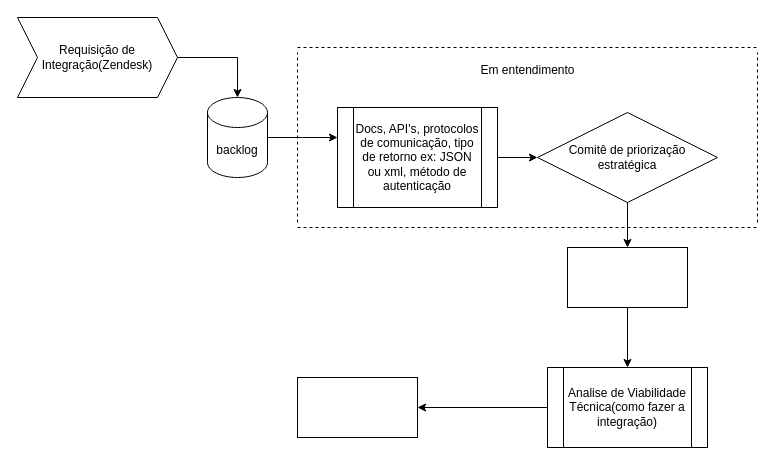
The diagram is 776 pixels wide and 465 high, and some of its shapes have lost their labels. The shapes that lost their labels are listed below. From the top down, each one's centre as x and y in pixels, then its label:
[627,277]: Aprovado
[357,407]: Aguardando Refinamento
